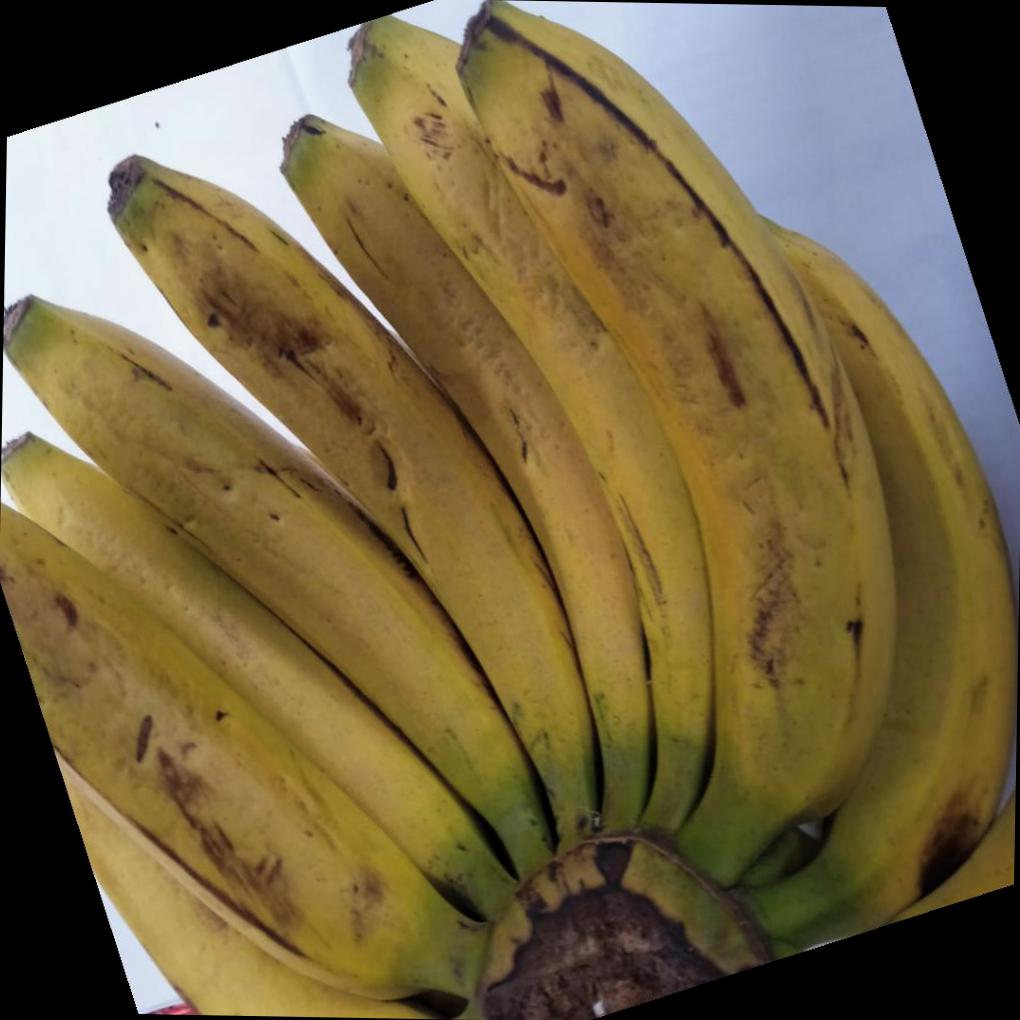Banana Ripe: (328, 5, 1020, 1020), (0, 168, 673, 1020)
